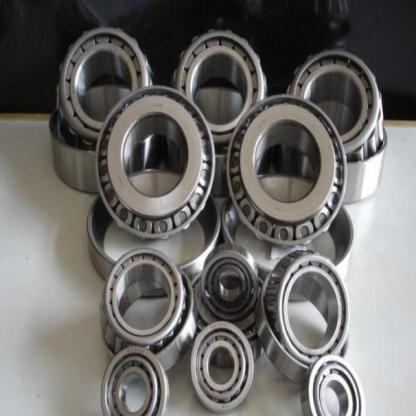FOD: (224, 92, 350, 248), (94, 85, 216, 243), (189, 319, 257, 415), (99, 344, 171, 415), (300, 353, 366, 415)
